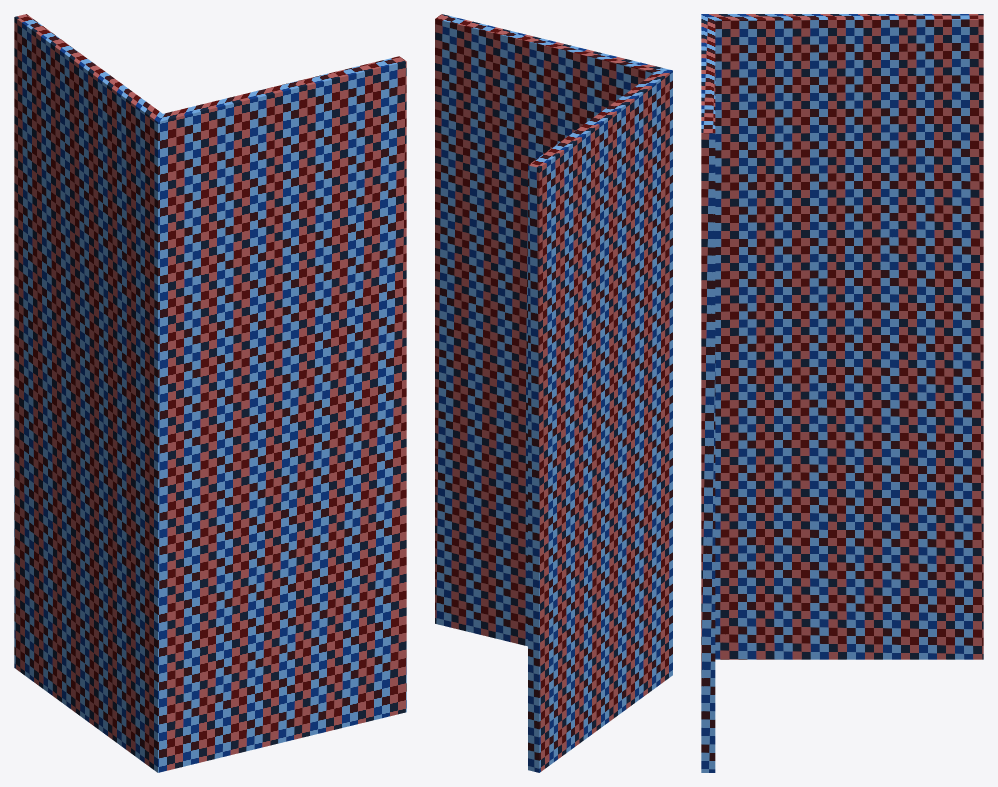
File: Wall_Half_turn_01.fbx
3 views of the same model, side by side, from view 1: azimuth 30°, elevation 25°; view 2: azimuth 150°, elevation 25°; view 3: azimuth 270°, elevation 25° (orthographic). The views are drawn at different scales.
Visible parts, largest first — view 1: wall_Half_Turn_01; view 2: wall_Half_Turn_01; view 3: wall_Half_Turn_01.
Part boxes in pixels (box(x1,y1,x2,y2)): wall_Half_Turn_01: box(14, 14, 406, 772); wall_Half_Turn_01: box(435, 14, 672, 772); wall_Half_Turn_01: box(701, 14, 983, 772).
Size of the model in its own units: 200 by 500 by 200.
1 material, 1 textured.
